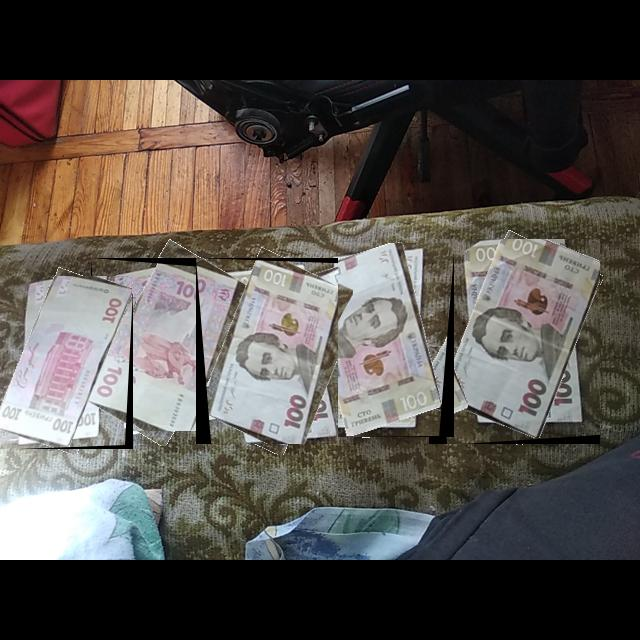100uah: (441, 239, 601, 441), (311, 243, 445, 438), (207, 260, 339, 445), (99, 263, 236, 432), (0, 276, 133, 448)
